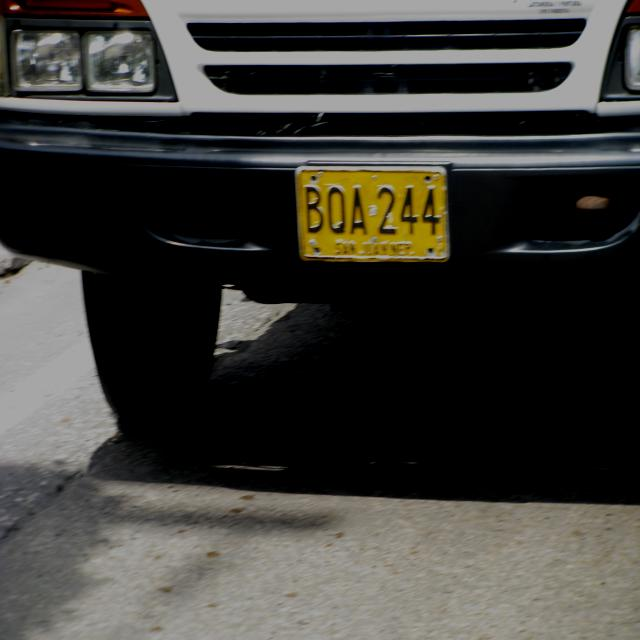placa: (292, 162, 452, 266)
